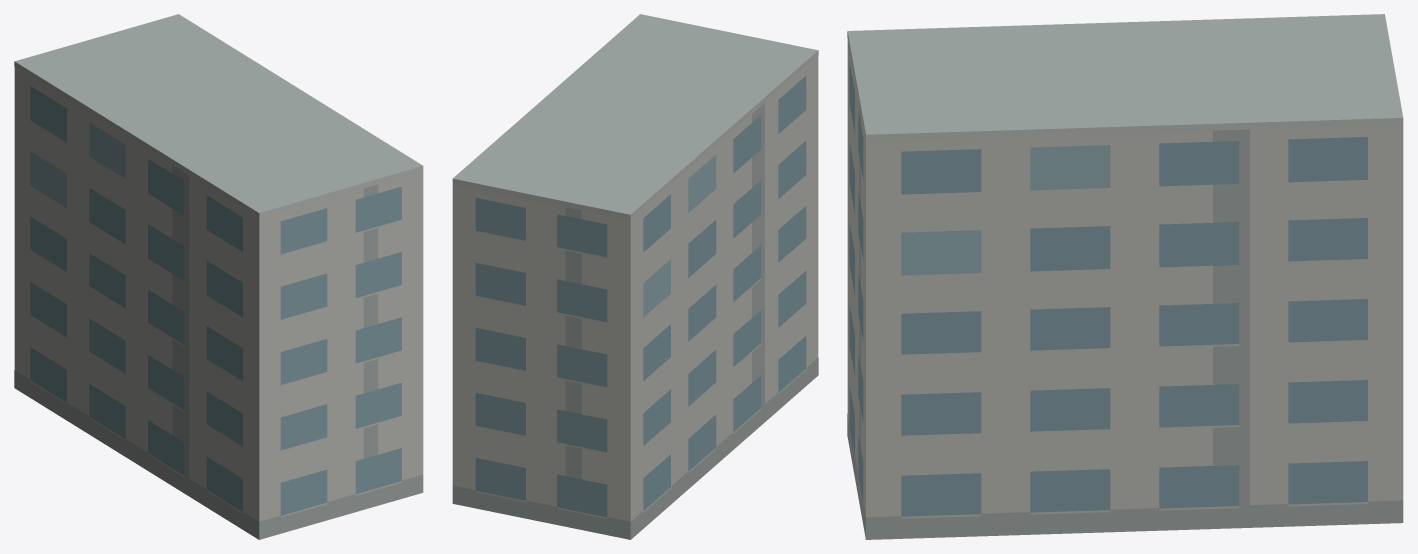
Rendered from survey-upis-32918557.glb.
3 renders of one model, left to right at view 1: azimuth 30°, elevation 25°; view 2: azimuth 150°, elevation 25°; view 3: azimuth 270°, elevation 25°, orthographic. The views are drawn at different scales.
Parts seen in each view (by area): view 1: survey-upis-32918557.tmp; view 2: survey-upis-32918557.tmp; view 3: survey-upis-32918557.tmp.
Boxes of the visible parts, <box> form: survey-upis-32918557.tmp: <box>14,14,423,539</box>; survey-upis-32918557.tmp: <box>452,14,818,539</box>; survey-upis-32918557.tmp: <box>847,14,1403,539</box>.
Bounding box in the file's own units: 9.28 × 14.5 × 18.04.
